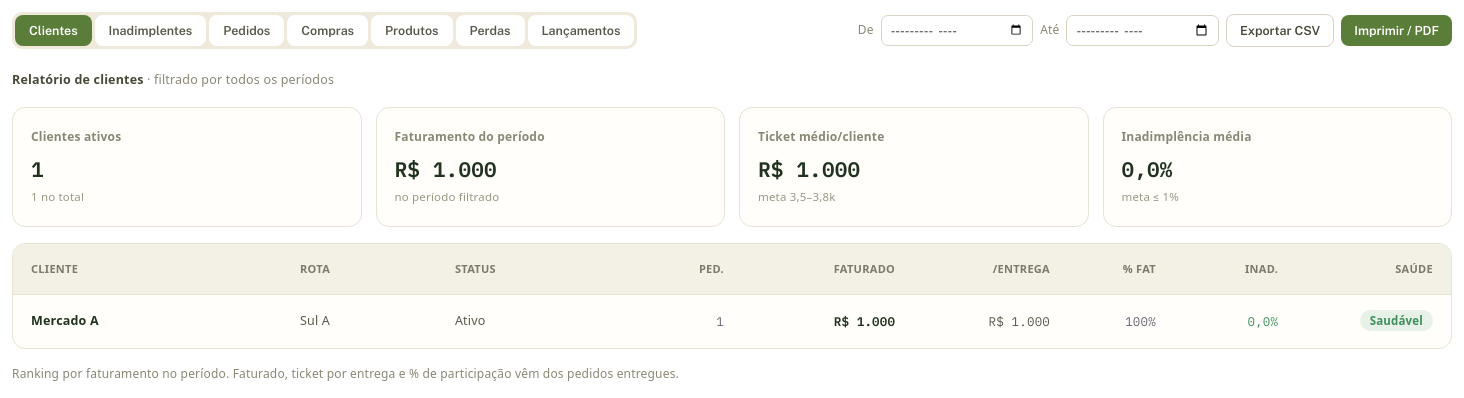
Test: RelatoriosTela — compras › mostra o fornecedor resolvido a partir do fornecedor_id
Expected: the text "Mercado A" is shown, 31,312 -> 99,330
Click the button "Compras" at (328, 30), box 287,15 -> 368,46
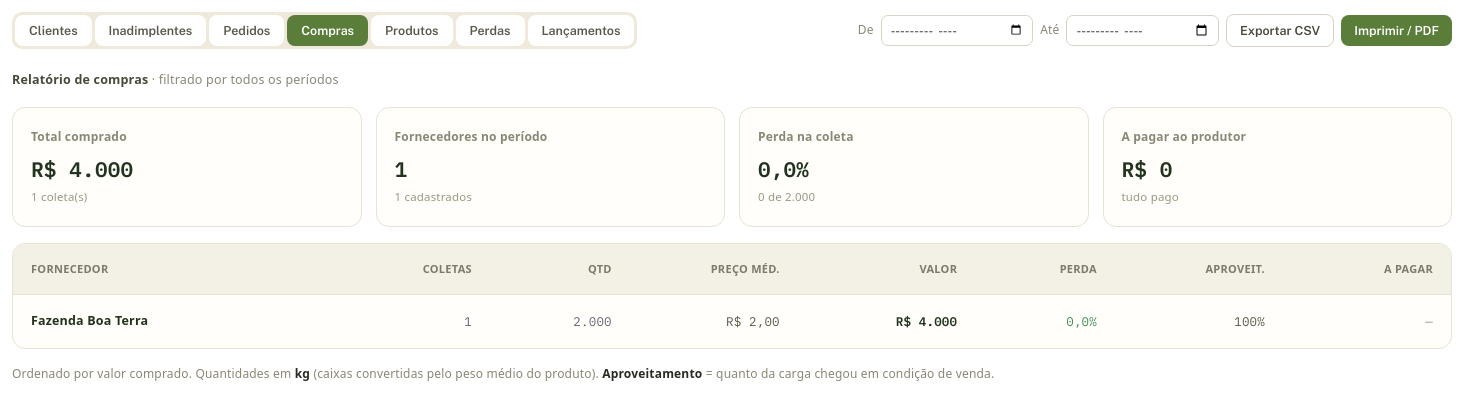
Expected: the text "Fazenda Boa Terra" is shown, 31,312 -> 148,330
